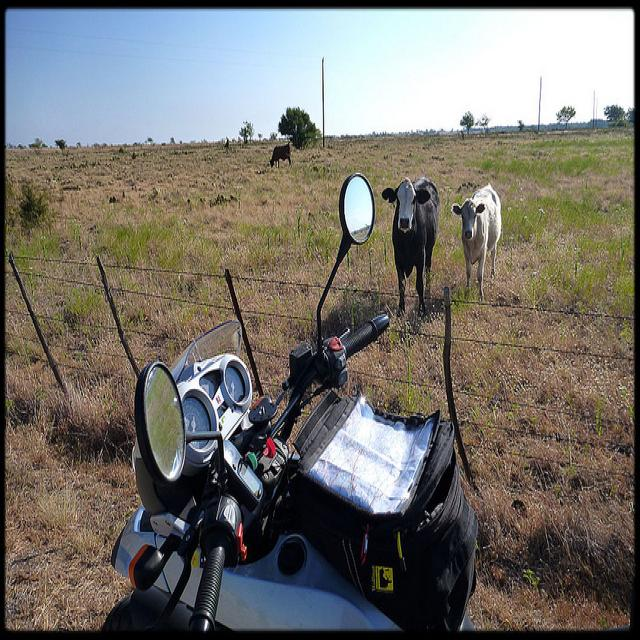motor: (107, 161, 413, 629)
